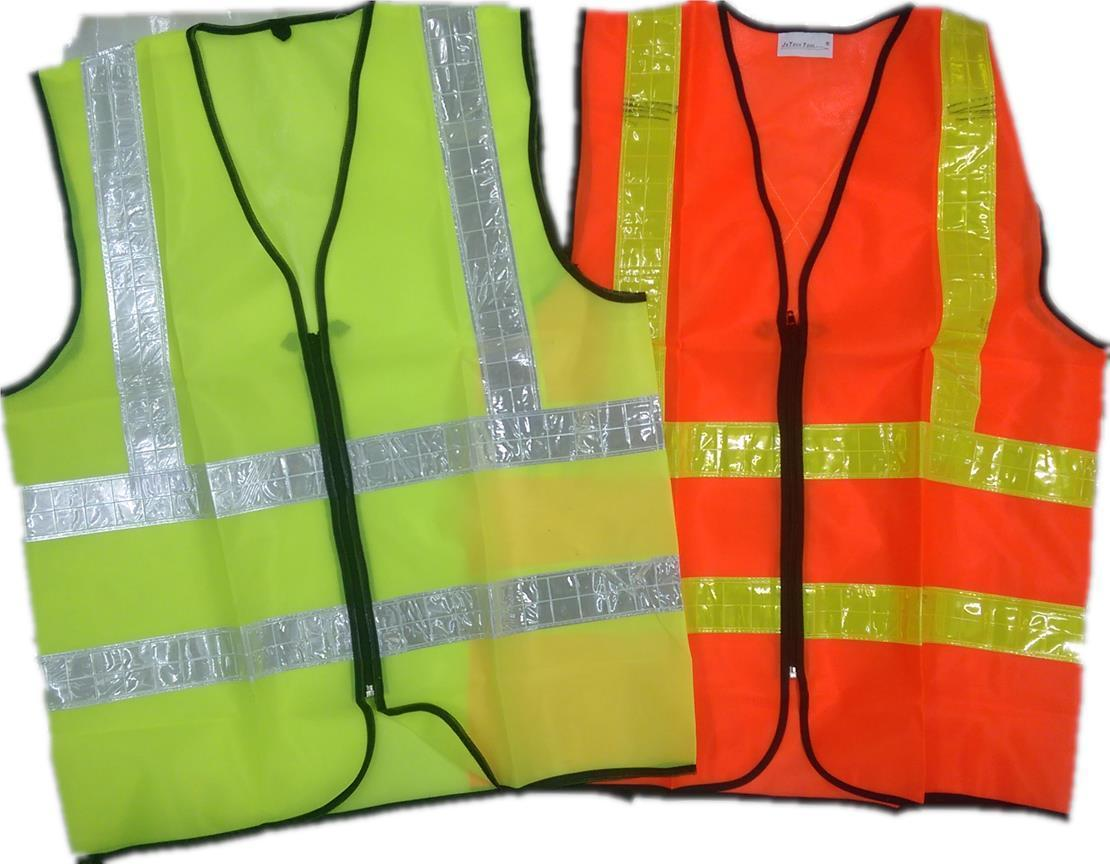vest: (0, 0, 698, 862), (564, 3, 1109, 831)
